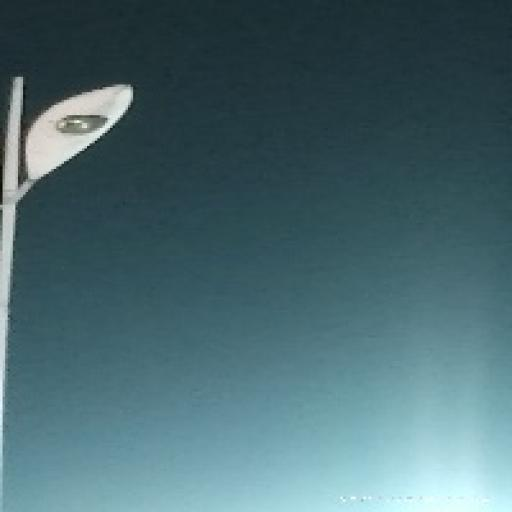Not Working: (10, 68, 150, 210)
